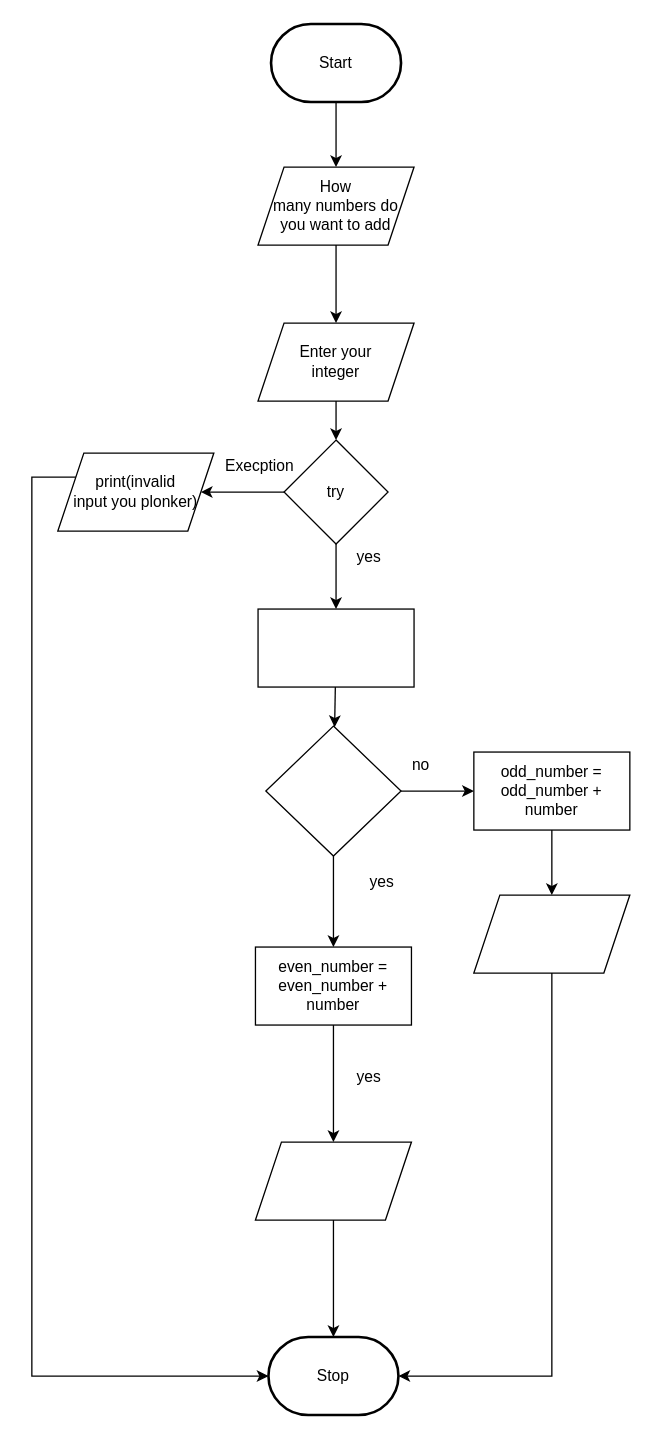
This 653x1438 diagram has some shape labels left out. The shapes that lost their labels are listed below. From the top down, each one's box as (x1, y1, x2, y2) in pixels, then its label:
(257, 608, 414, 687): convert string to integer
(265, 725, 401, 856): If number % 2 == 0
(473, 894, 630, 973): print(sum of odd numbers is {0}
(254, 1141, 411, 1220): print(sum of even numbers is {0}
